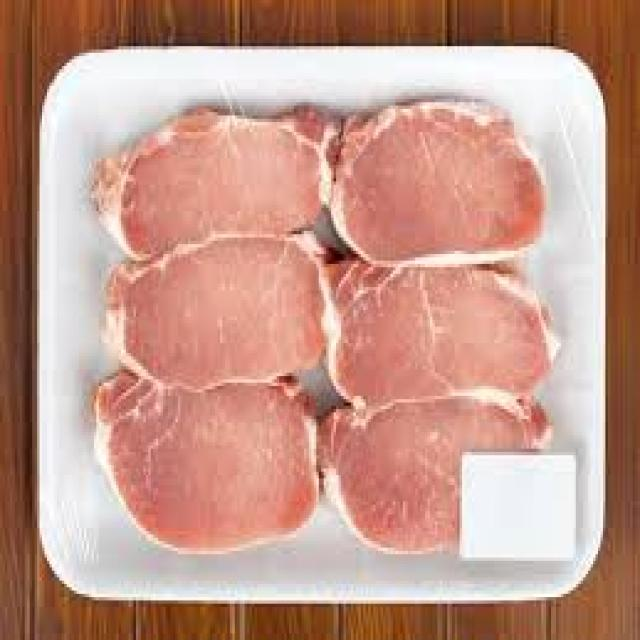Organik: (70, 64, 604, 605), (116, 273, 592, 602), (89, 95, 586, 398)
